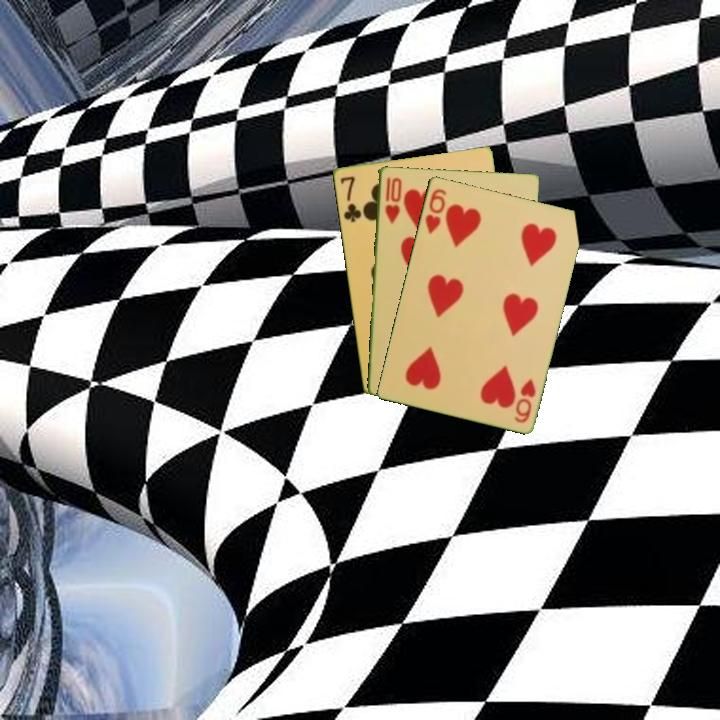10h: (381, 173, 403, 226)
6h: (421, 185, 449, 237), (510, 375, 538, 425)
7c: (337, 172, 364, 225)
